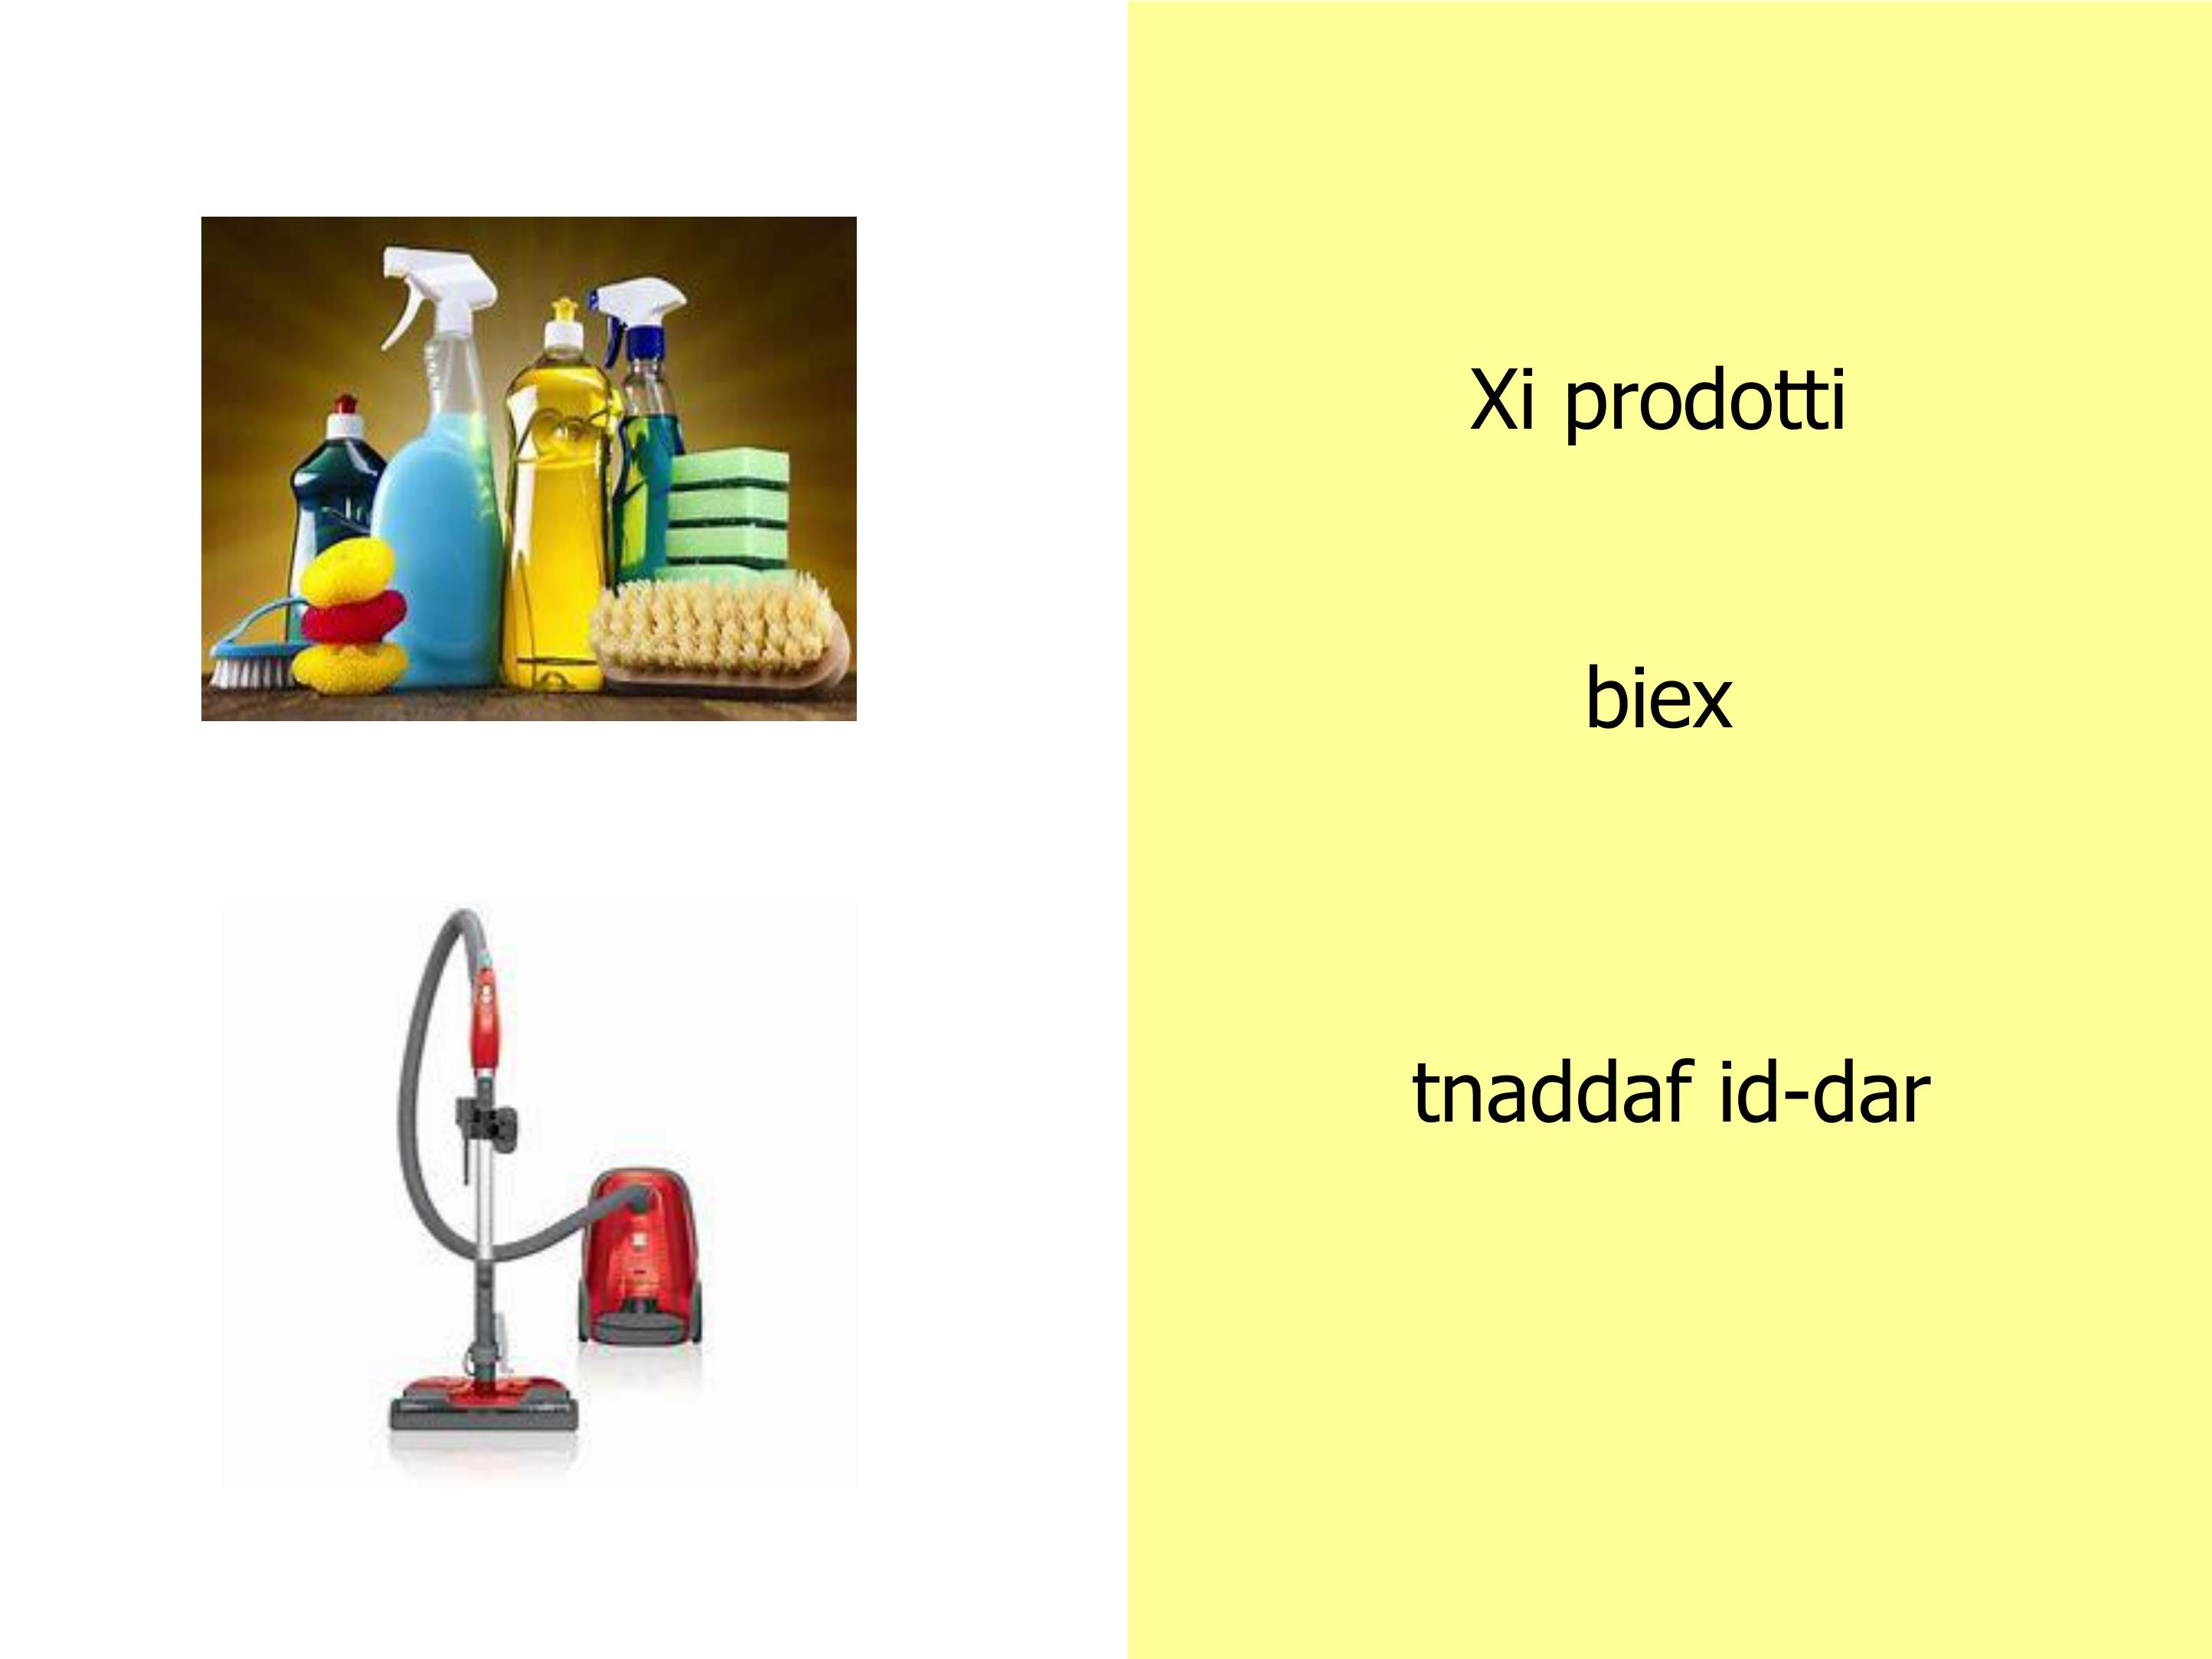text: (1386, 310, 1975, 1168)
